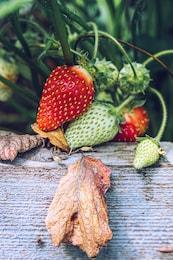Fresa: (32, 56, 98, 137)
